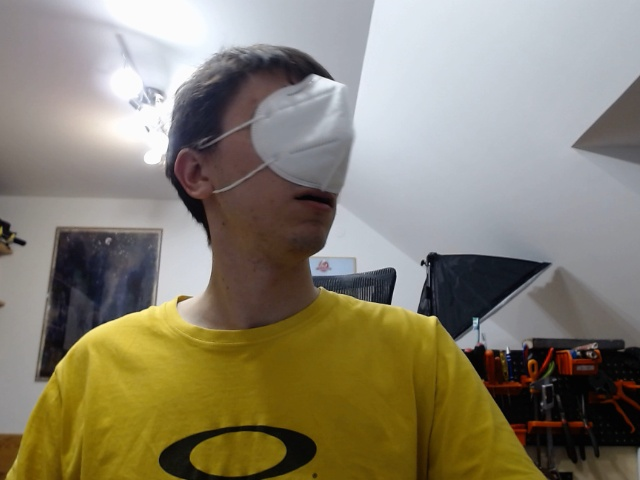WrongMask: (164, 40, 357, 277)
